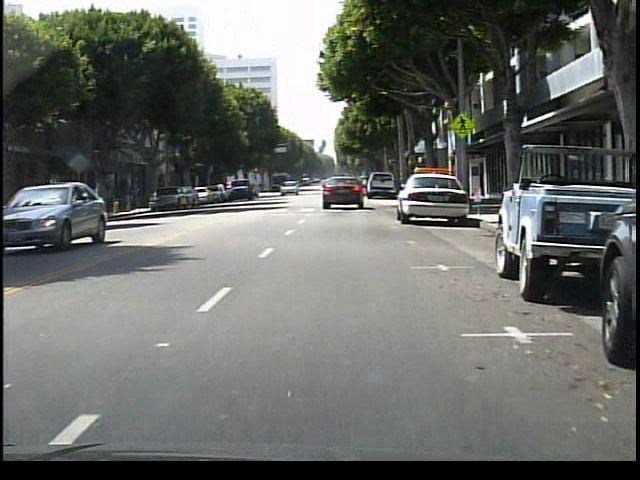person: (28, 179, 52, 228)
